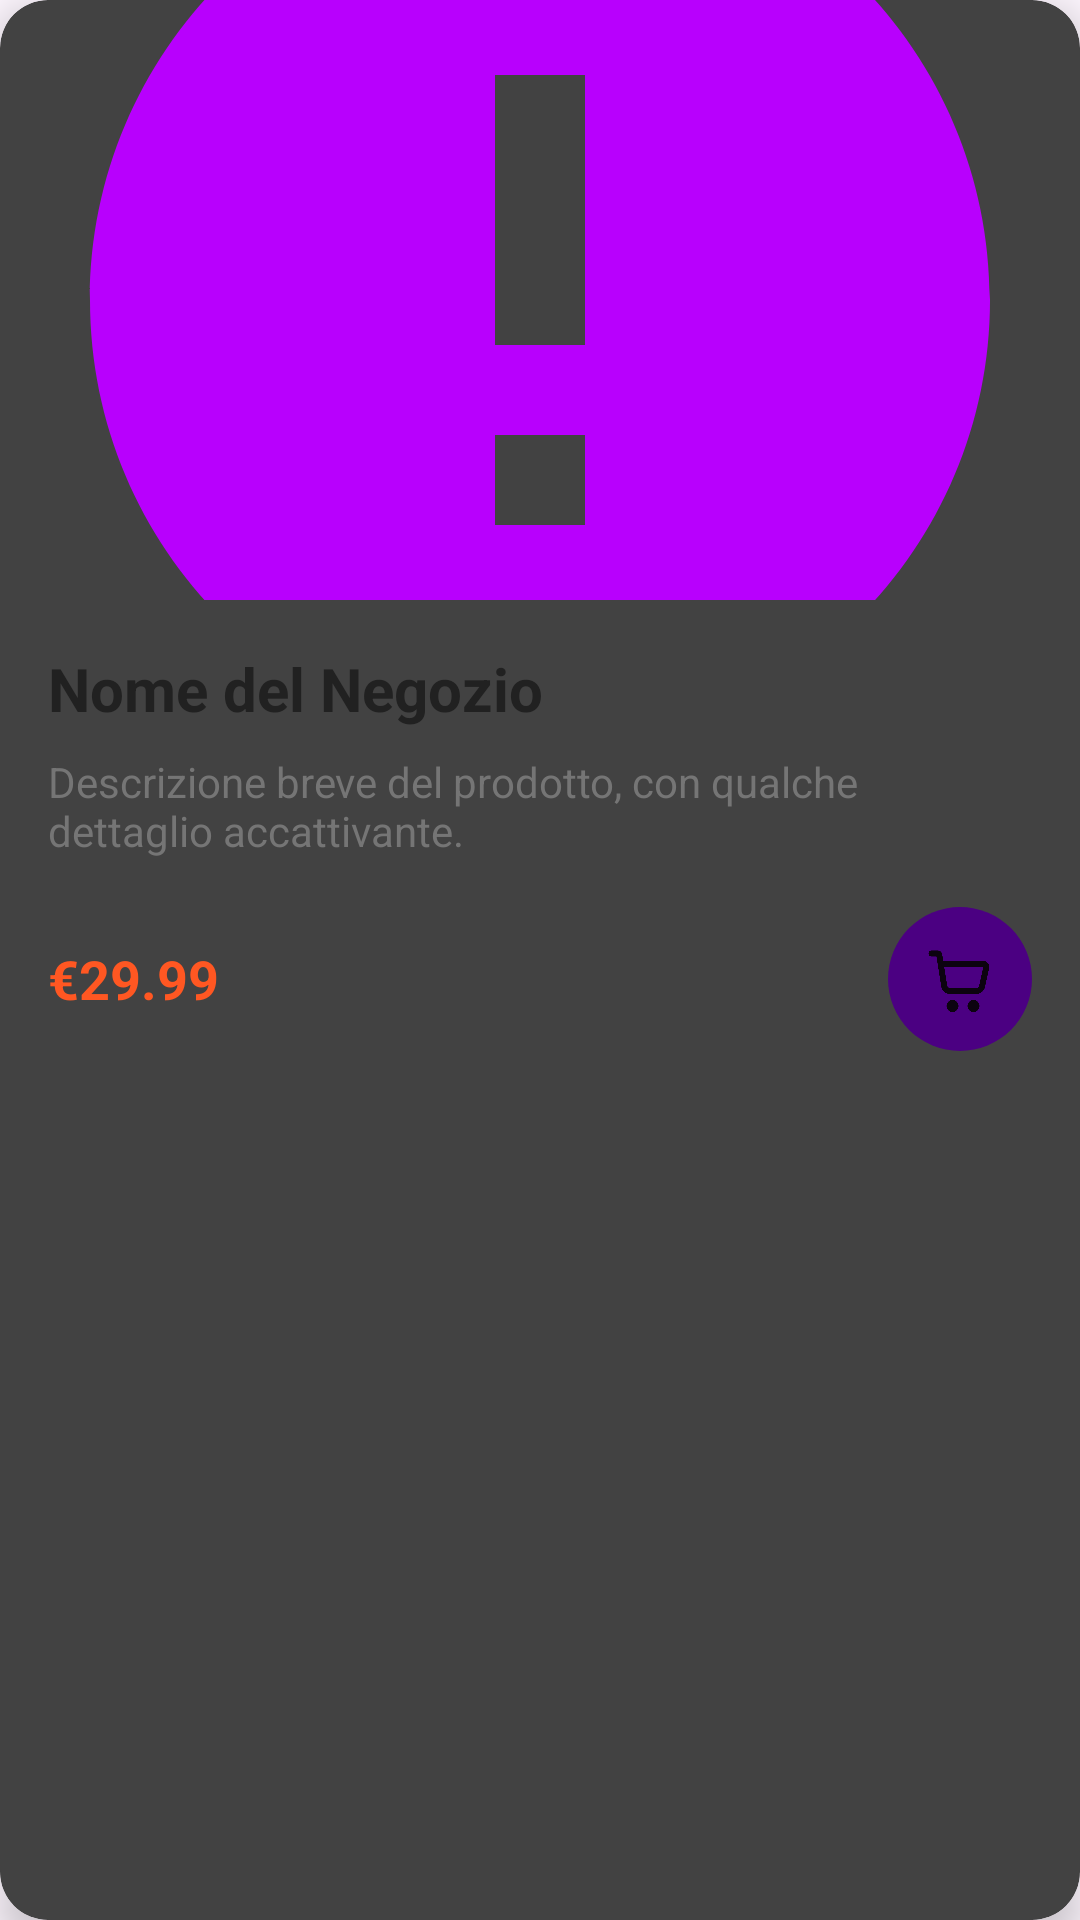

Screen size 1080 x 1920. Icon name, then its box in pixels as (x1,y1,x2,y2):
shopping cart: (888,907,1032,1051)
